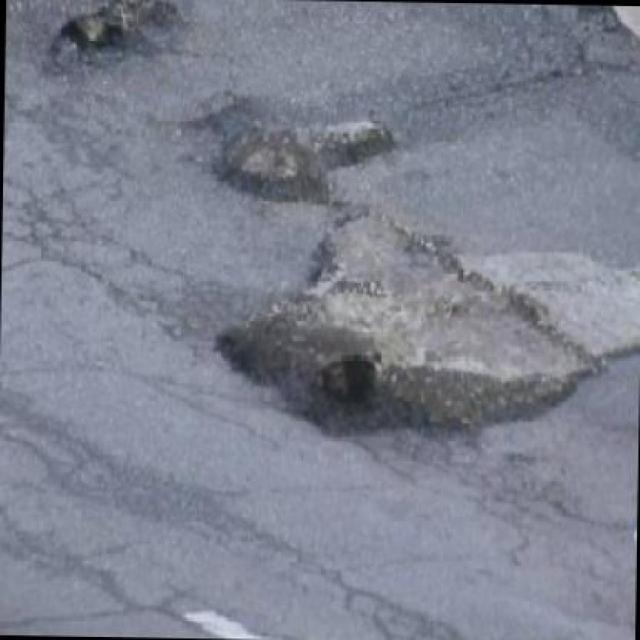pothole1: (208, 212, 606, 450), (200, 112, 395, 212), (38, 0, 191, 86)
